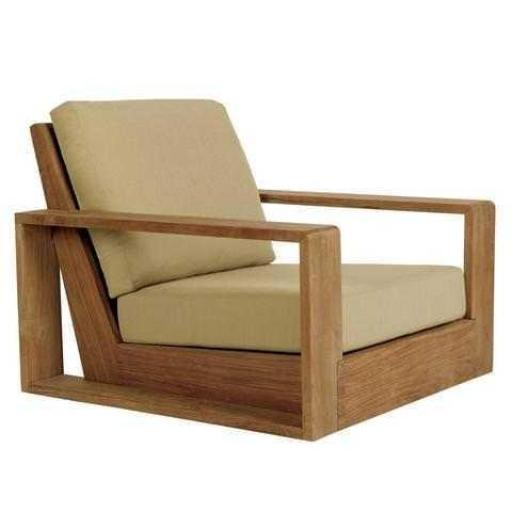chair: (6, 94, 500, 443)
